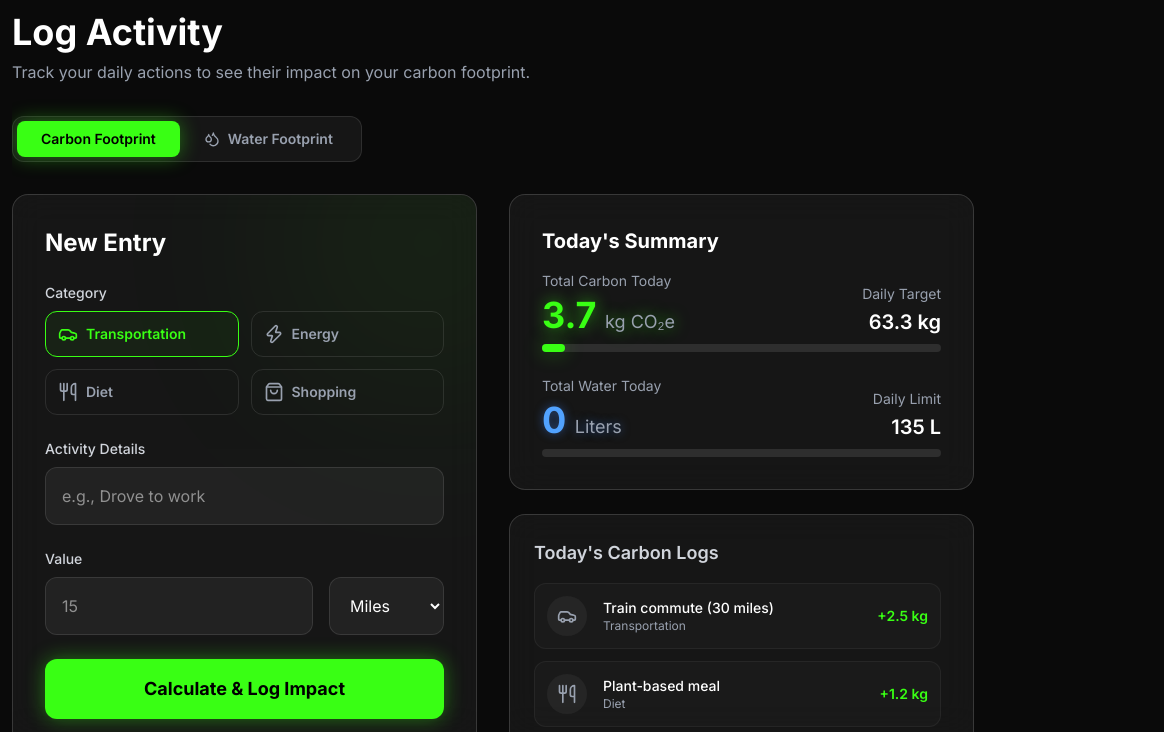
Scenario: Log Activity Page › Carbon form submission › submits a carbon activity and shows success state
Type "Drove to work" into the field with id "details-input". click: (244, 496)
box: [45,467,444,525]
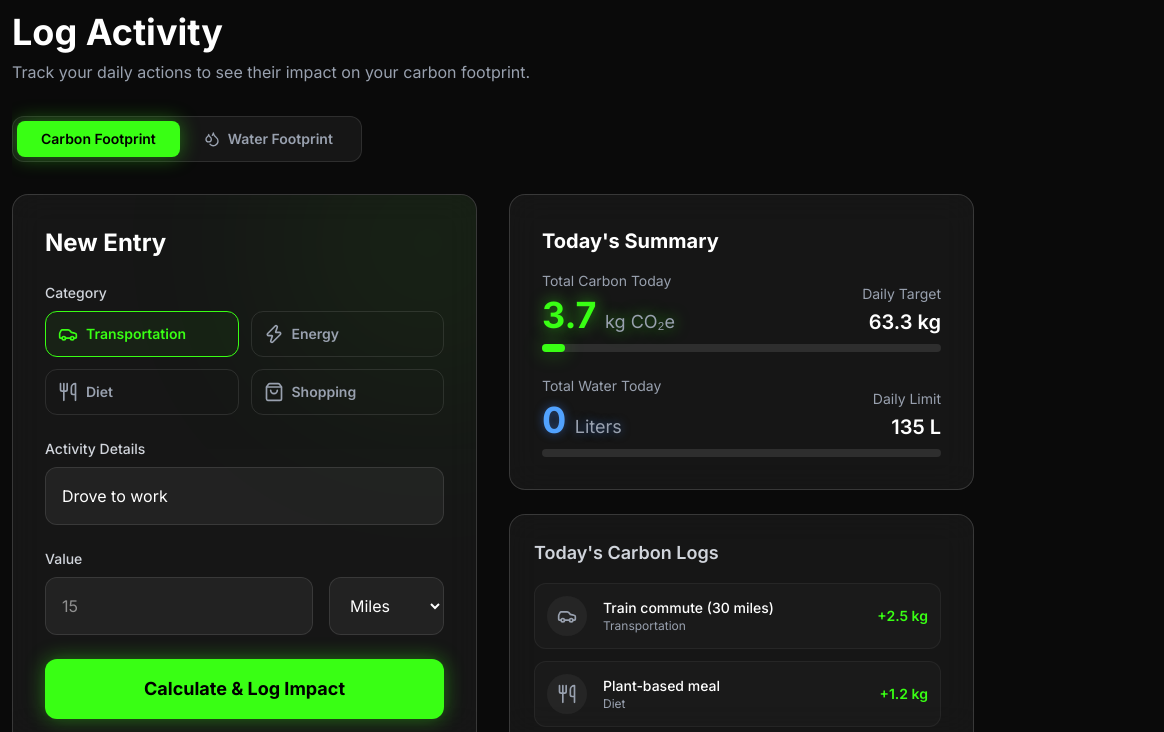
Type "10" into the number field with id "duration-input". click: (179, 606)
box: [45,577,313,635]
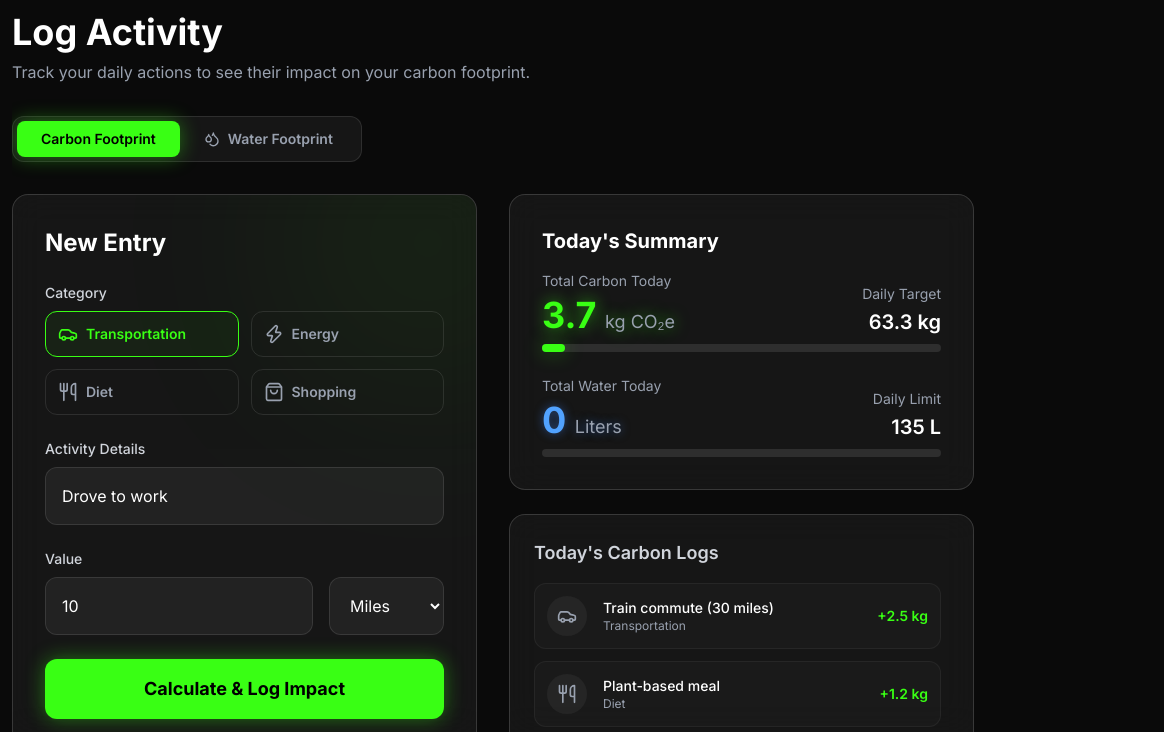
Click the button "Calculate & Log Impact". click: (244, 689)
box: [45,659,444,719]
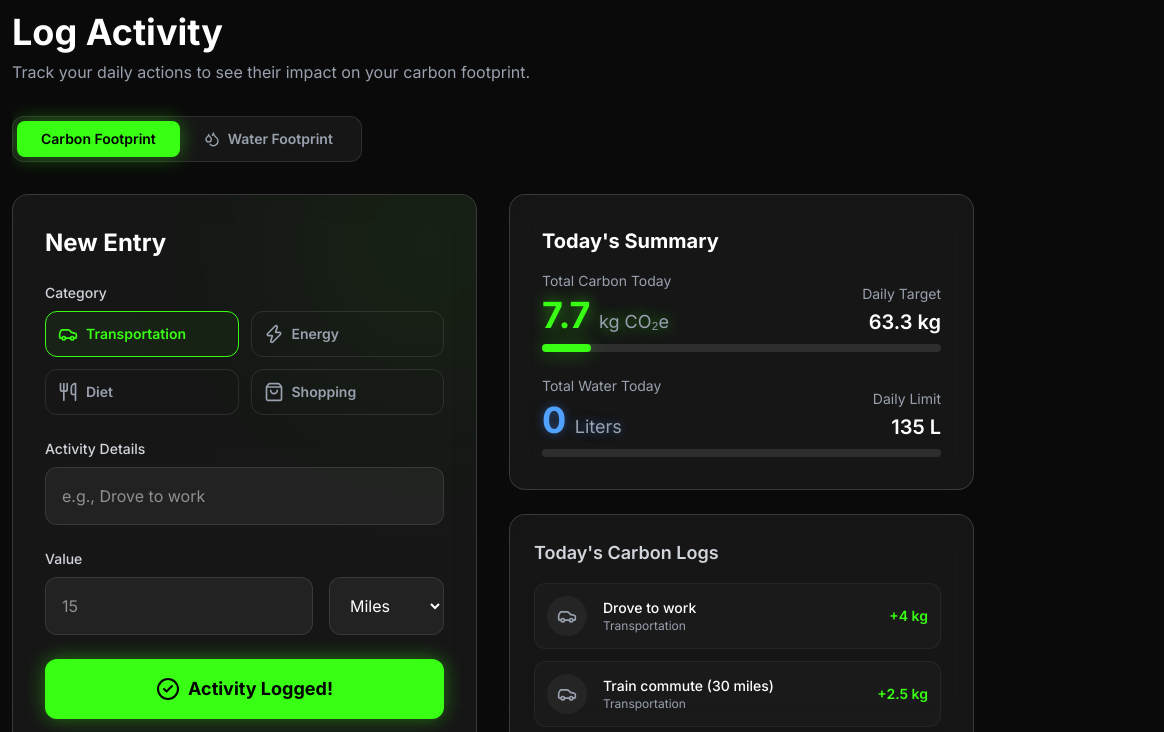
Expected: the button "Activity Logged!" is shown, [45,659,444,719]
